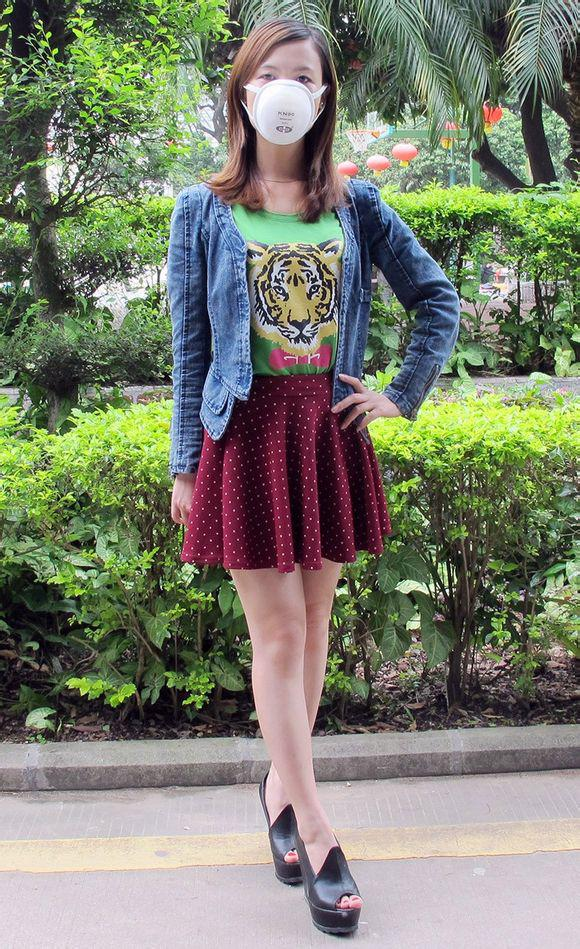OK: (244, 59, 331, 146)
